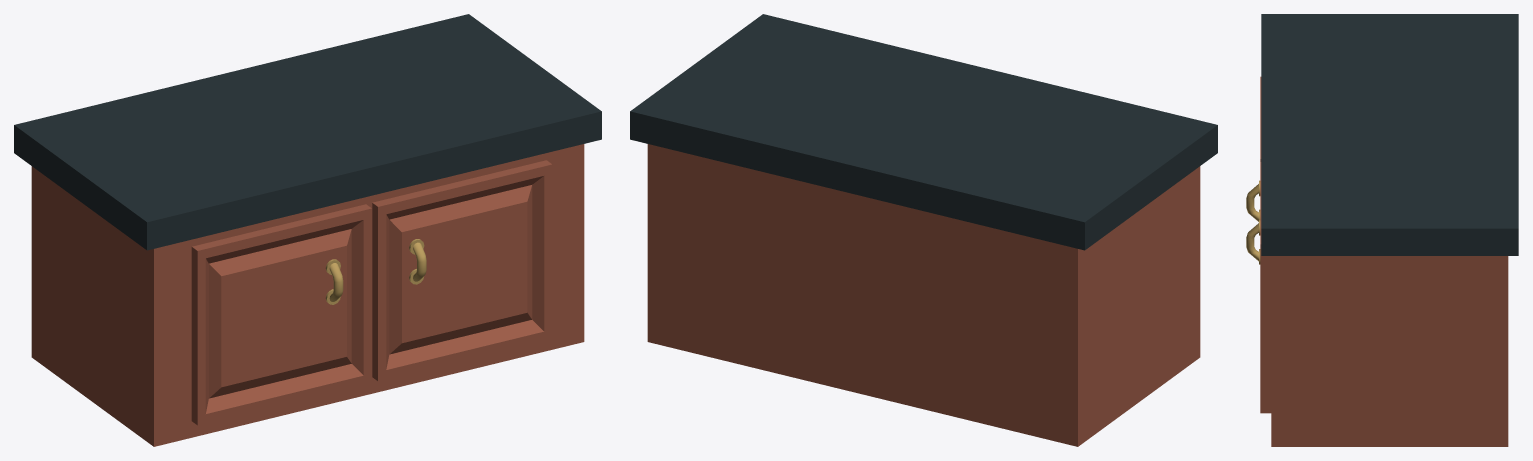
File: kitchenB.fbx
3 views of the same model, side by side, from view 1: azimuth 30°, elevation 25°; view 2: azimuth 150°, elevation 25°; view 3: azimuth 270°, elevation 25° (orthographic). The views are drawn at different scales.
Parts seen in each view (by area): view 1: kitchenB; view 2: kitchenB; view 3: kitchenB.
Boxes of the visible parts, x1,y1,x2,y2 form: kitchenB: (14,14,601,446); kitchenB: (630,14,1217,446); kitchenB: (1246,14,1518,446).
Bounding box in the file's own units: 1.94 × 0.9462 × 1.04.
